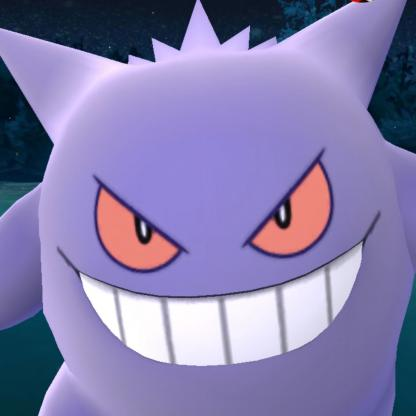Gengar: (1, 8, 416, 416)
